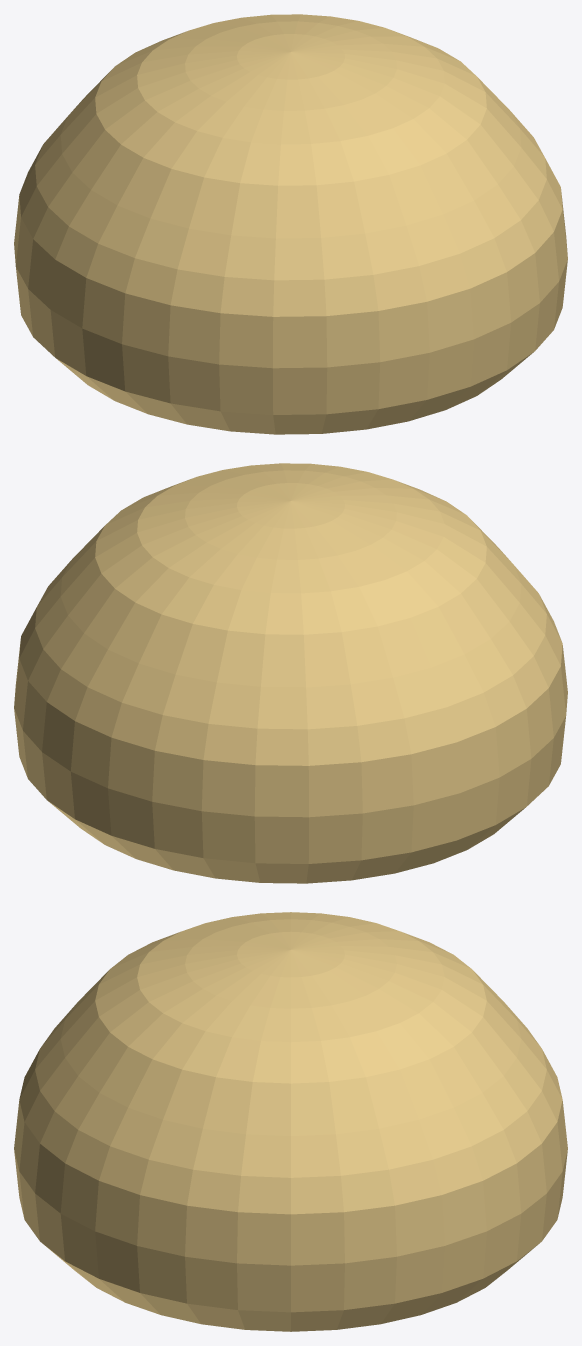
The model's file is Dumpling.fbx.
The picture shows the model from 3 angles, top to bottom: view 1: azimuth 30°, elevation 25°; view 2: azimuth 150°, elevation 25°; view 3: azimuth 270°, elevation 25°; orthographic projection.
Parts seen in each view (by area): view 1: Sphere; view 2: Sphere; view 3: Sphere.
Part boxes in pixels (bbox=[...]): Sphere: bbox=[14, 14, 567, 434]; Sphere: bbox=[14, 463, 567, 883]; Sphere: bbox=[14, 912, 567, 1331].
Size of the model in its own units: 200 by 121 by 200.
